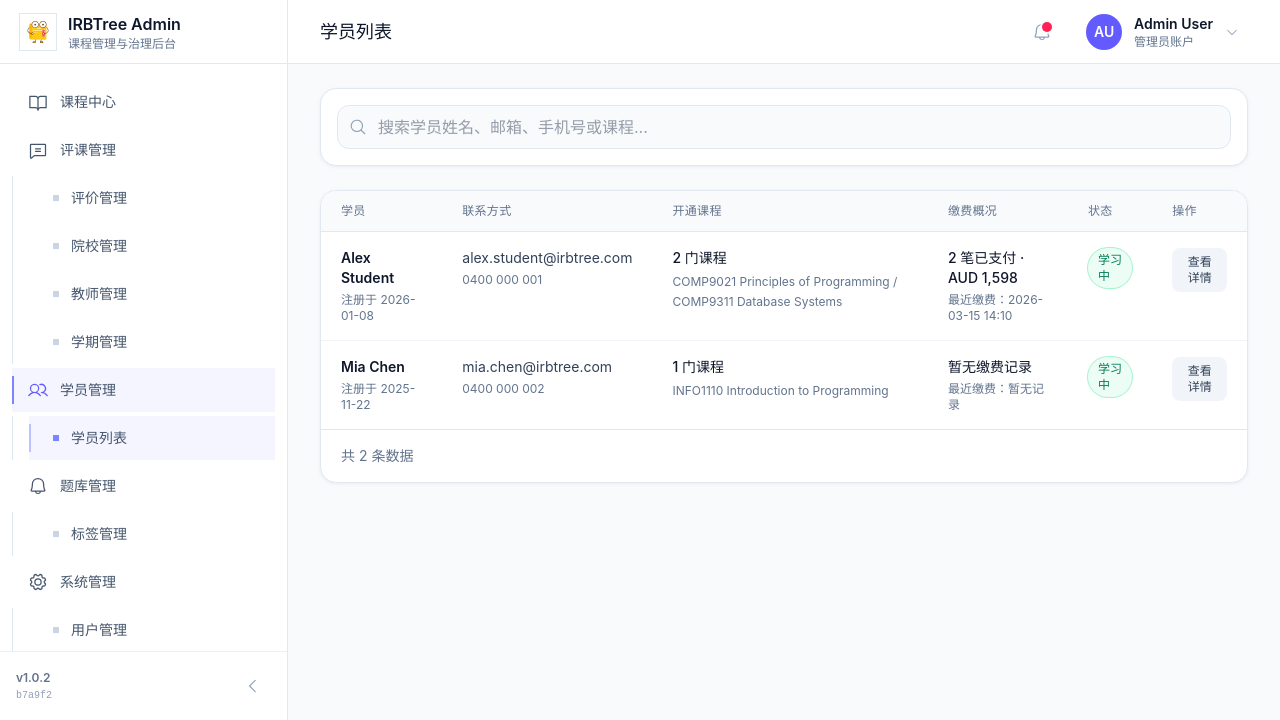
Test: Students admin page › restores list query context when navigating back from student detail
The width and height of the screenshot is (1280, 720).
Expected: the heading "学员列表" is shown, [320,18,392,46]
Type "Alex" into the field labelled "搜索" at [784, 127], box [337,105,1231,149]
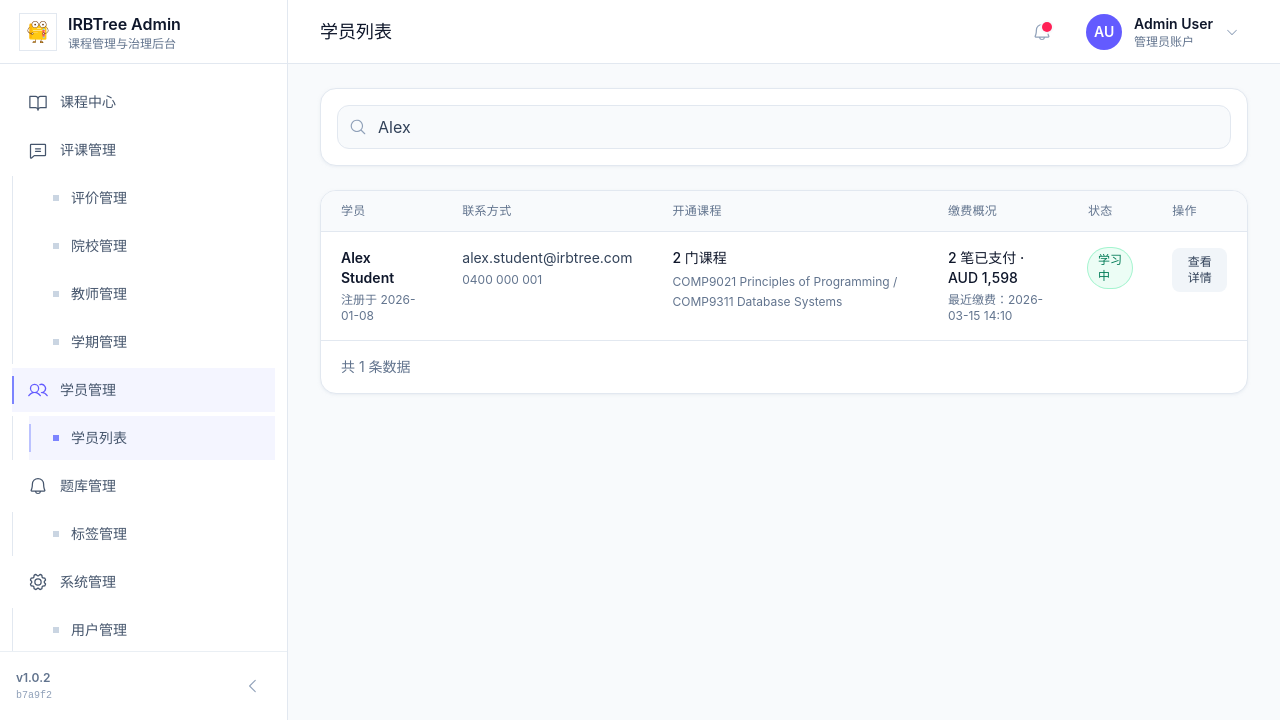
Click the link "查看详情" at [1200, 270], box [1172,248,1227,292]
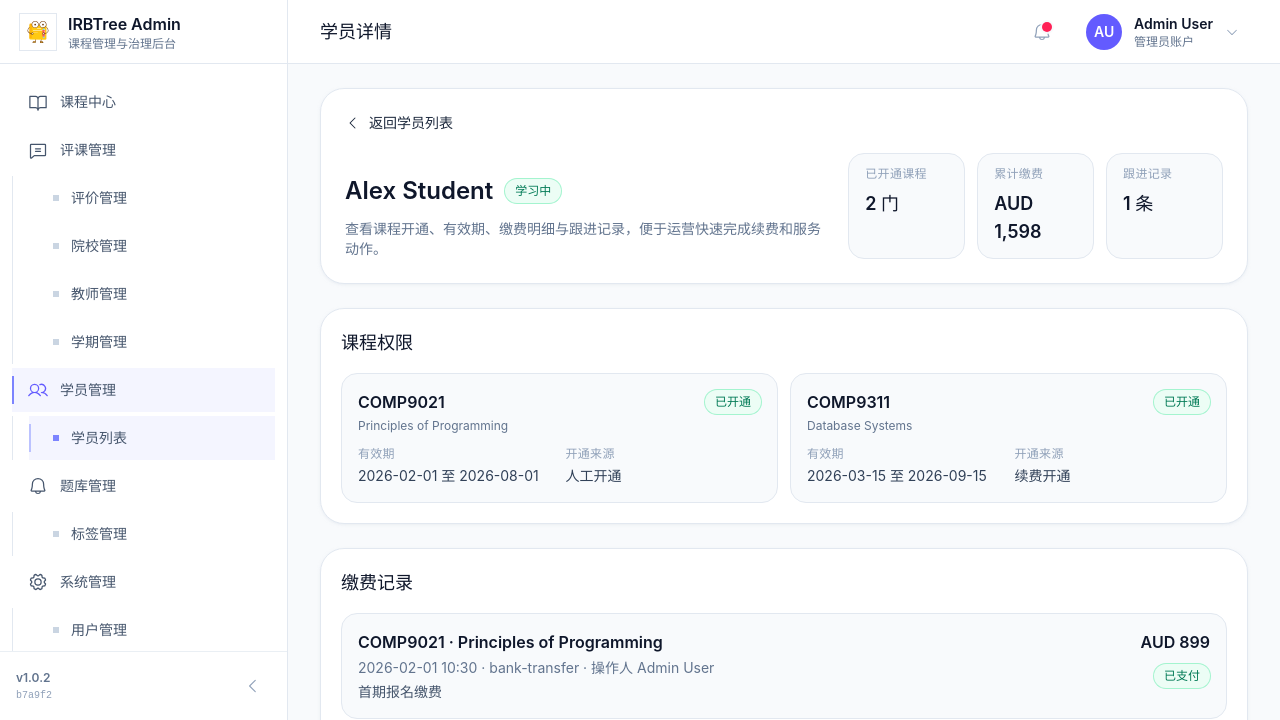
Click the link "返回学员列表" at [399, 123], box [345,113,453,133]
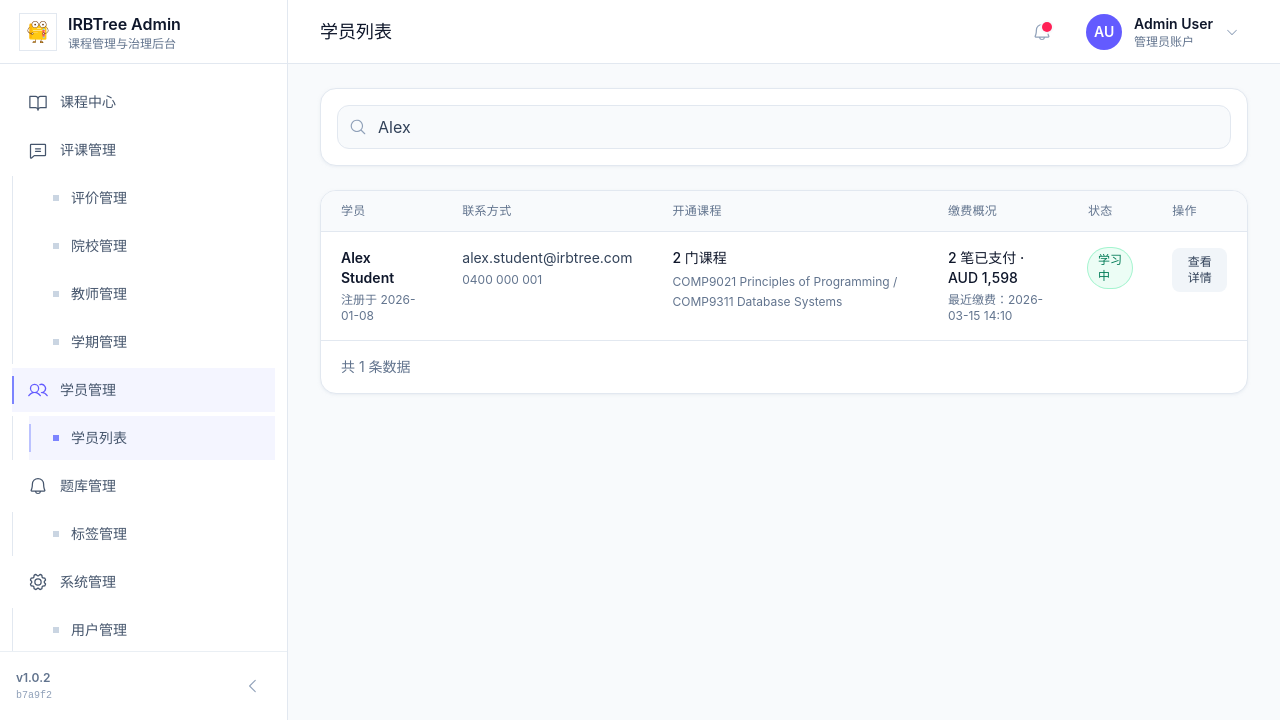
Expected: the field named "搜索" holds "Alex", [337,105,1231,149]
